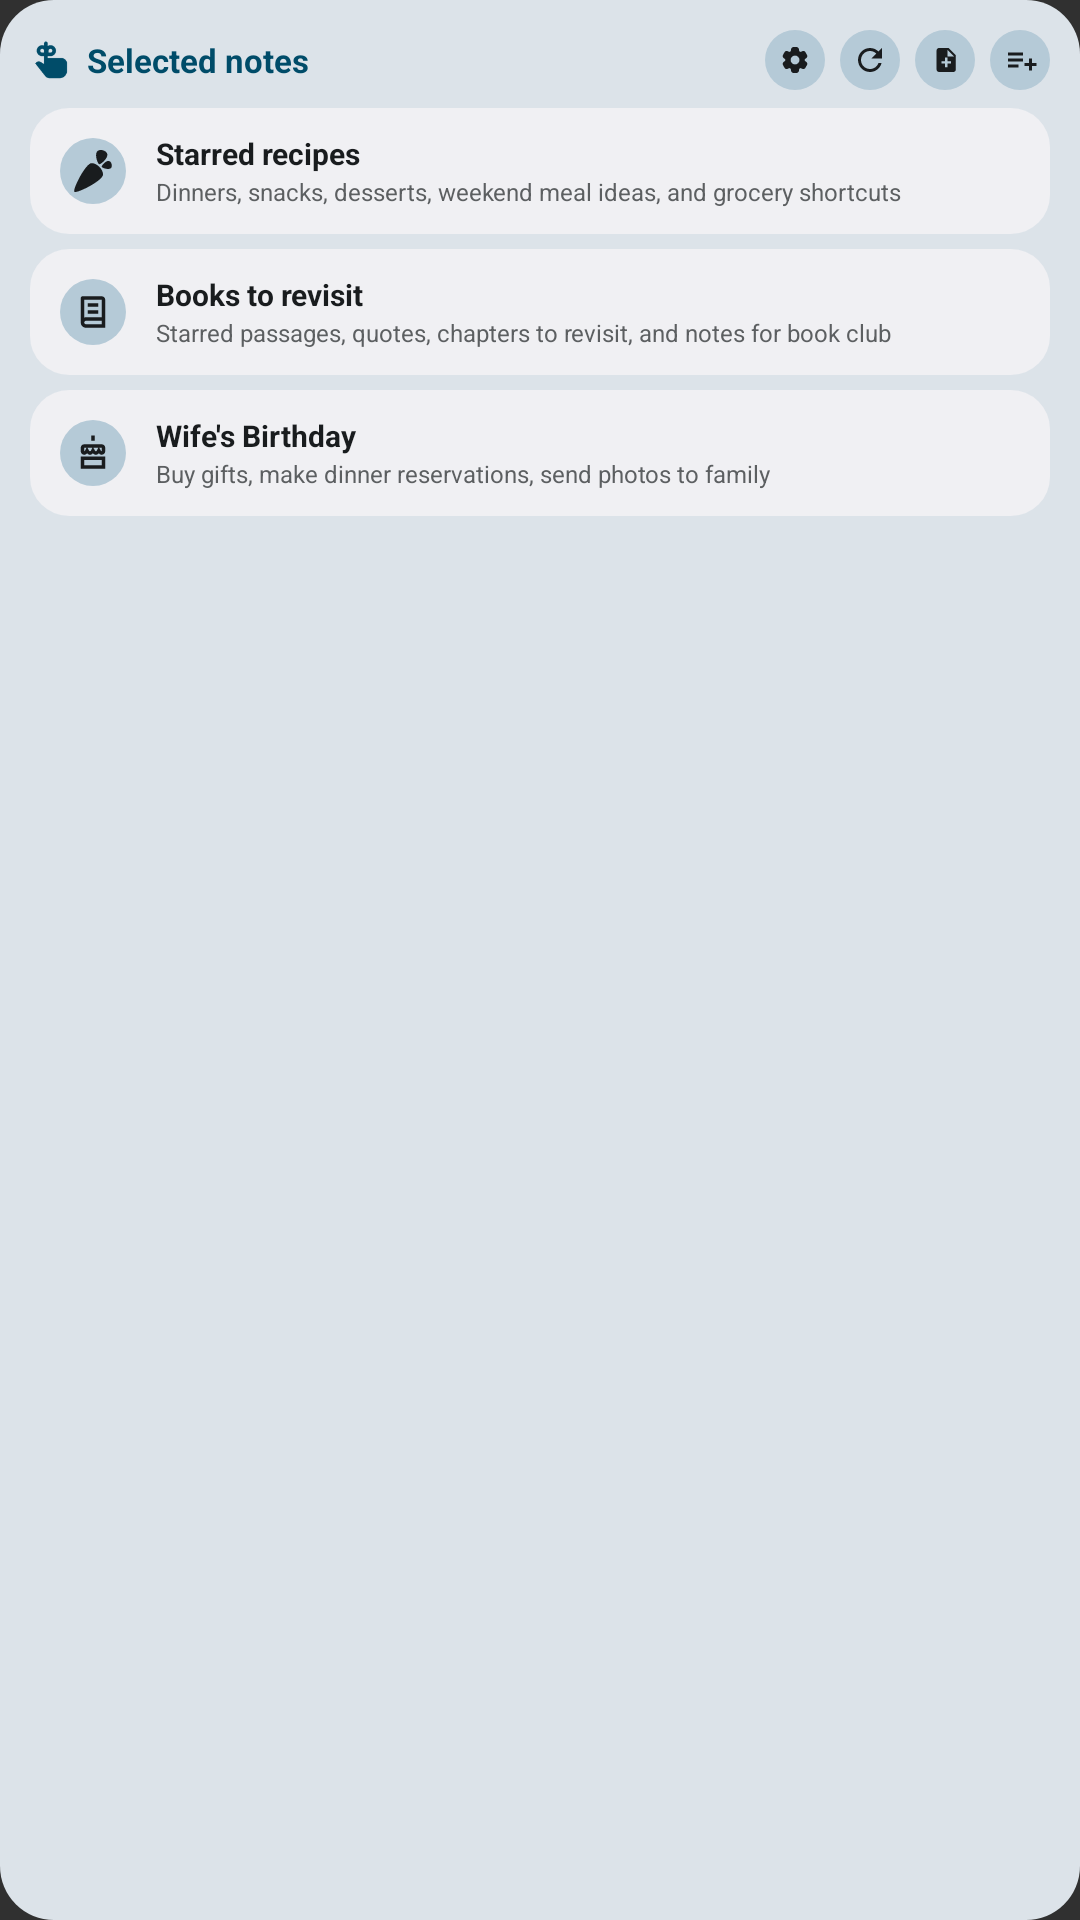

Icons on this 1080*1920 Android screen, each with the point to tap as (x,y):
Configure widget: (795,60)
Create new list: (1020,60)
Create new note: (945,60)
Refresh widget: (870,60)
remember: (51,60)
widget book: (93,312)
widget cake: (93,453)
